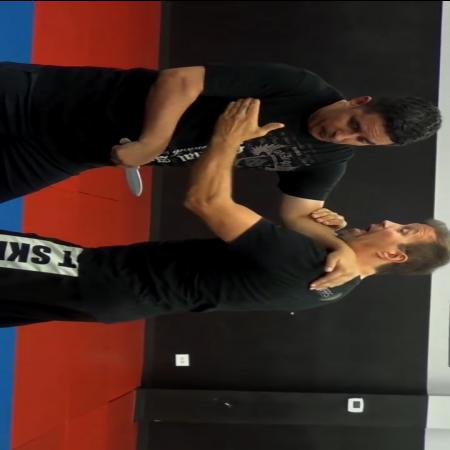long weapon: (112, 135, 148, 197)
